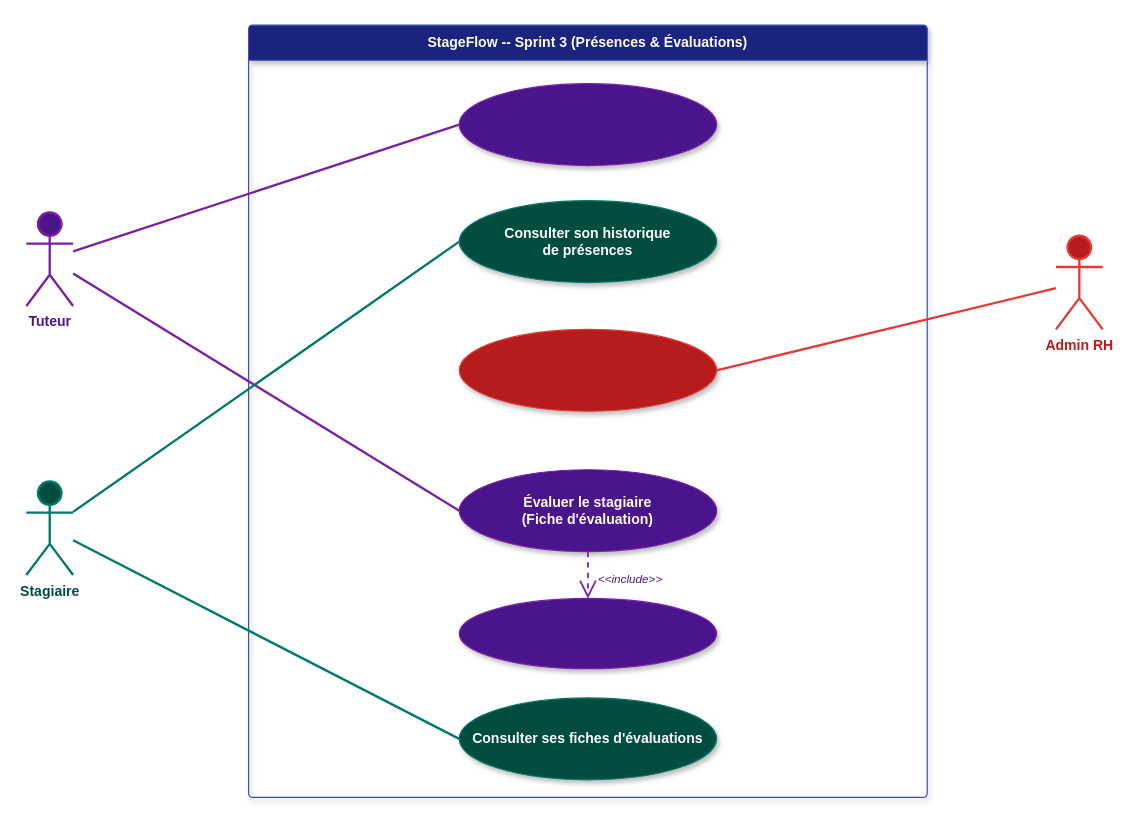
The diagram is 1134 pixels wide and 826 high, and some of its shapes have lost their labels. The shapes that lost their labels are listed below. From the top down, each one's centre as x and y in pixels, then its label:
the point at 588,126: Saisir & Valider la présence quotidienne d'un stagiaire
the point at 588,371: Consulter & Exporter les rapports de présences globaux
the point at 588,635: Calculer note totale automatiquement
